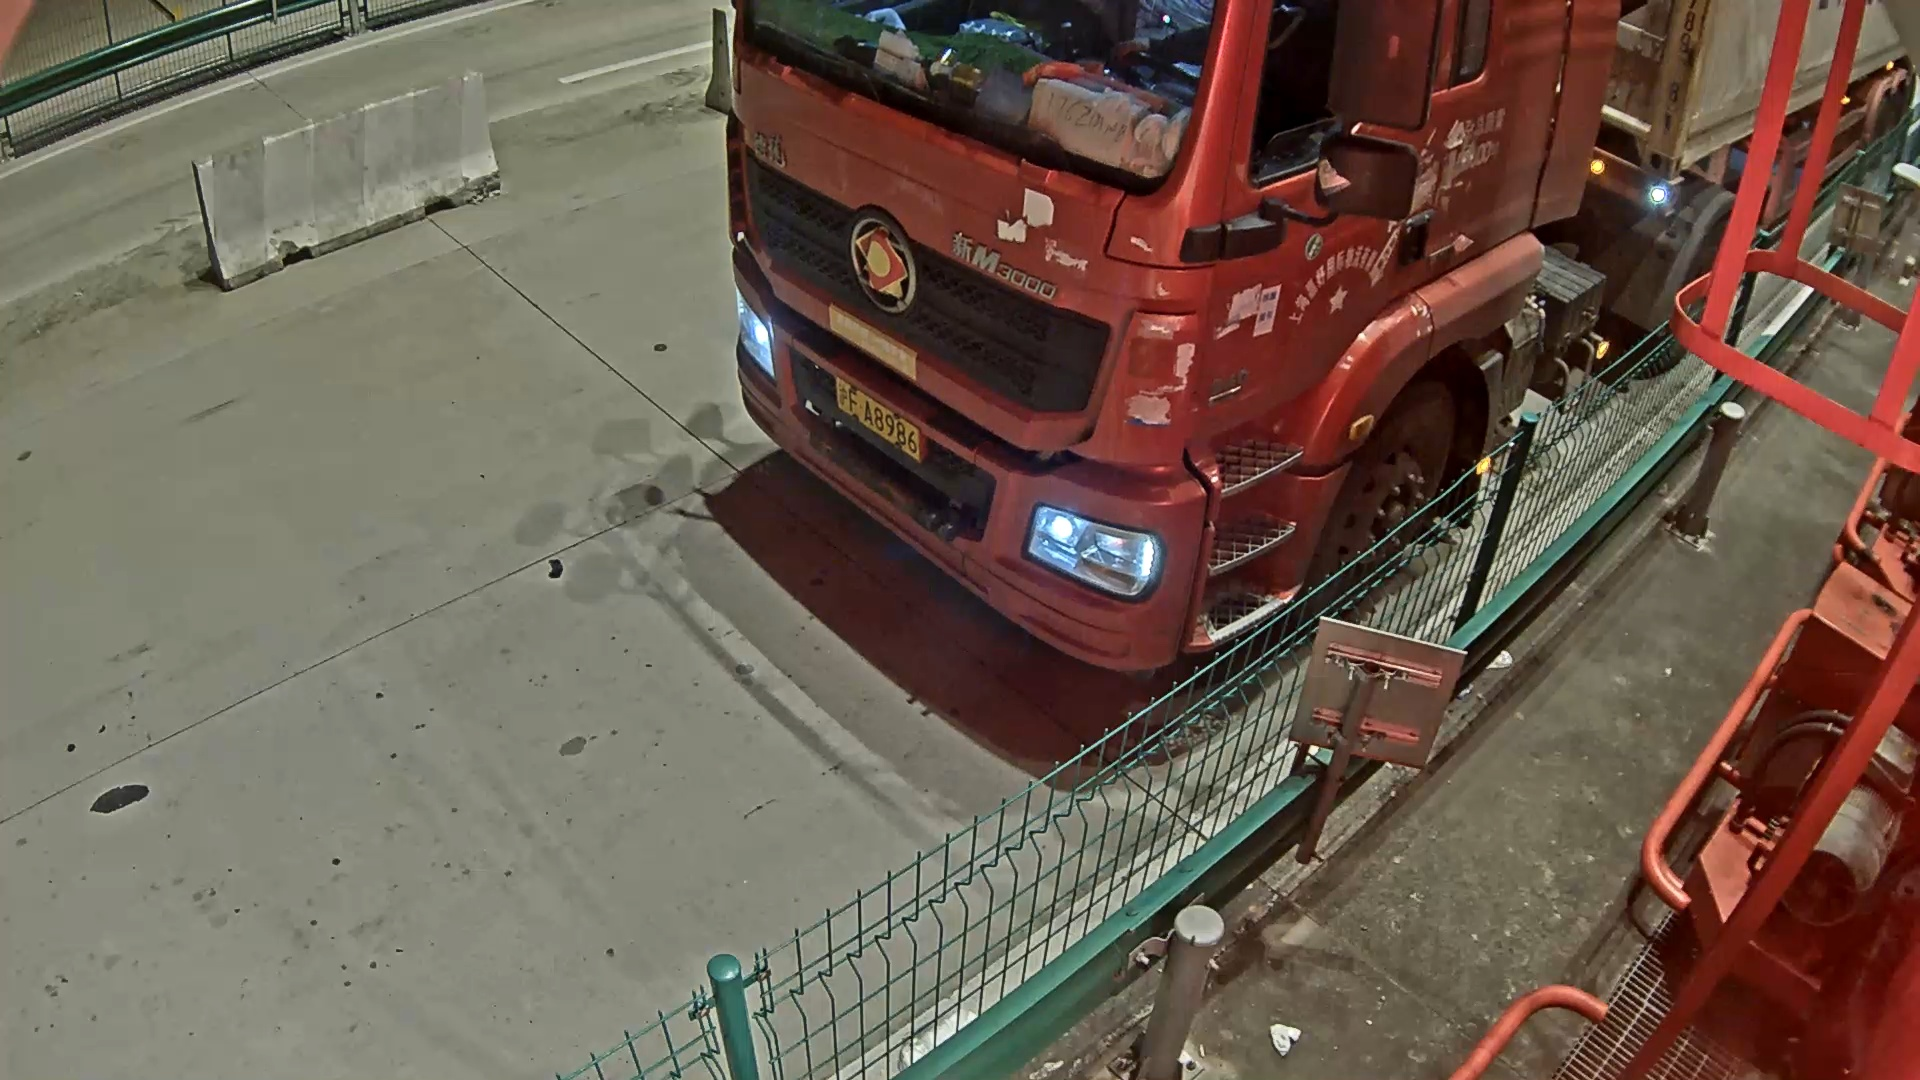head: (695, 10, 1324, 668)
plate: (827, 381, 941, 475)
